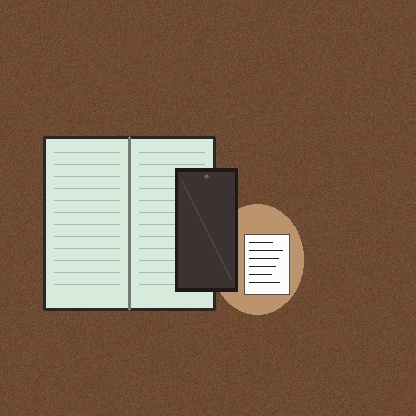book: (44, 137, 214, 309)
cell_phone: (175, 168, 237, 291)
exam_chit: (244, 234, 289, 294)
